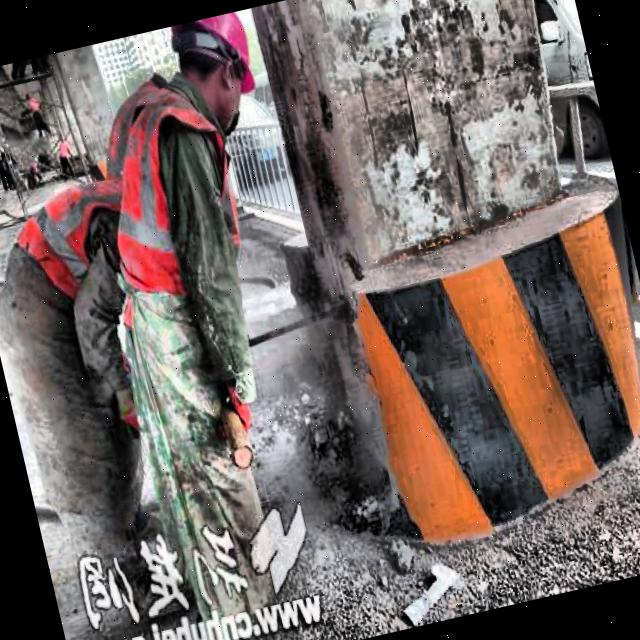helmet: (160, 10, 270, 138)
